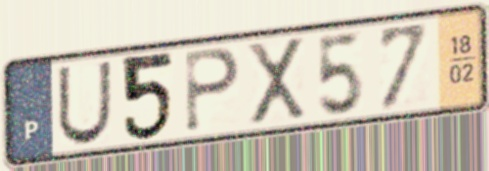5: (117, 48, 178, 143), (315, 28, 366, 118)
7: (376, 19, 432, 114)
P: (182, 45, 243, 135)
U: (55, 58, 114, 149)
X: (244, 34, 309, 129)
